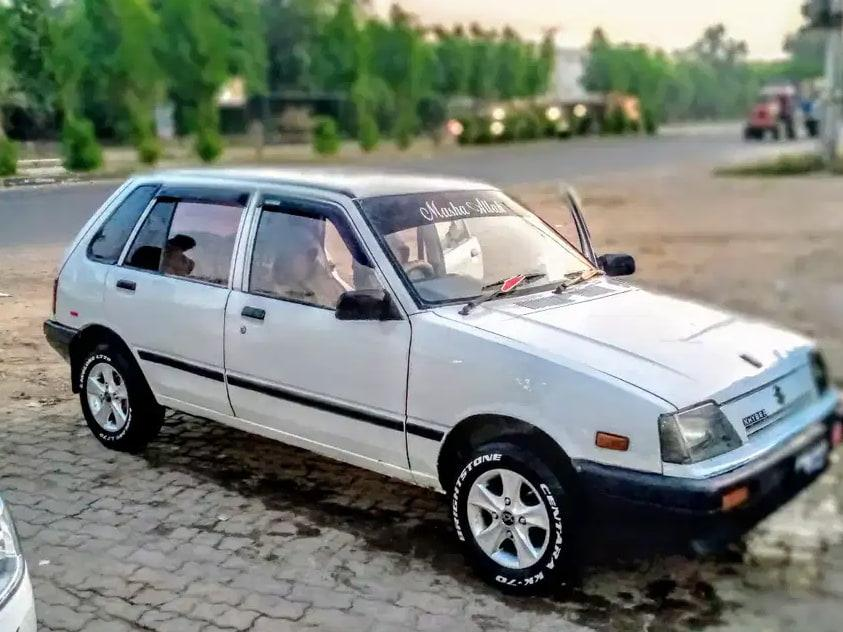Hatchback: (47, 143, 843, 600)
